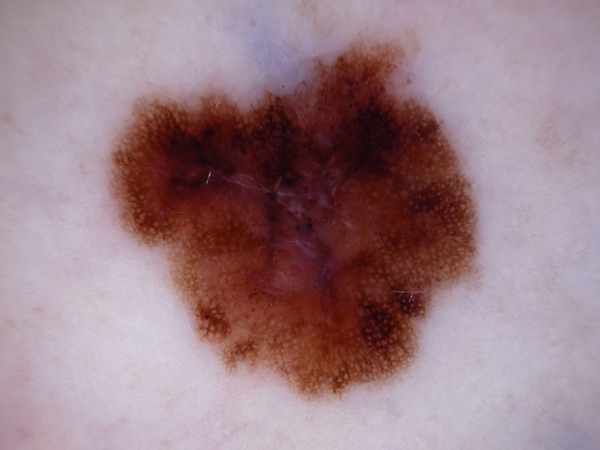Detected Lesion: (106, 32, 493, 410)
